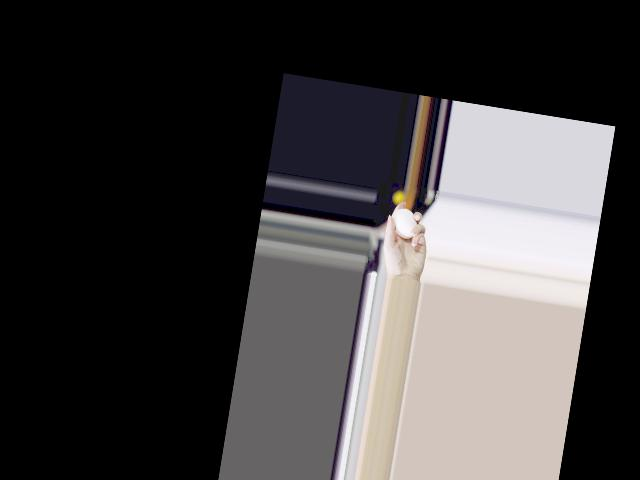egg: (390, 206, 419, 239)
